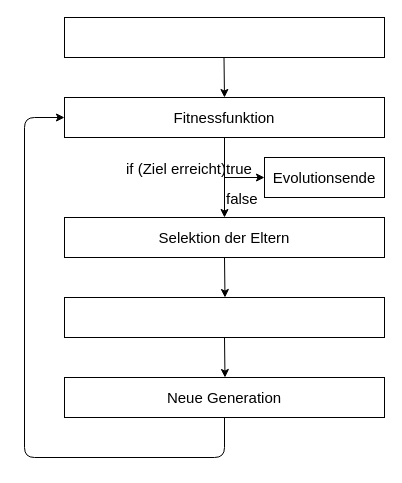
This 402x483 diagram has some shape labels left out. The shapes that lost their labels are listed below. From the top down, each one's centre as x and y in pixels, then its label:
At (224,37): "Initialisierung der Anfangspopulation".
At (224,317): "Vermehrung".
